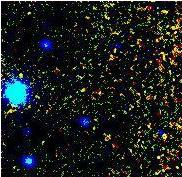star: (5, 60, 35, 90)
